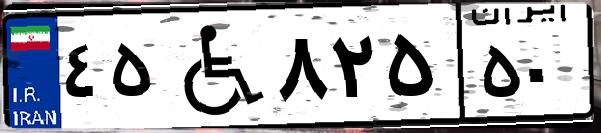0: (525, 38, 570, 115)
2: (330, 28, 385, 110)
4: (57, 26, 110, 100)
5: (385, 28, 445, 110), (475, 38, 525, 113), (110, 28, 158, 98)
8: (270, 28, 330, 110)
ژ (معلولین و جانبازان): (158, 12, 270, 120)
